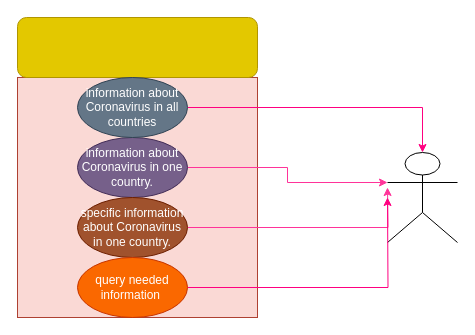
Some shapes in this 475 by 335 pixel diagram are drawn without their labels. The shapes that lost their labels are listed below. From the top down, each one's centre as x and y in pixels, then its label:
At pixel 137 47: "Corona Tracker API".
At pixel 422 197: "USER".
